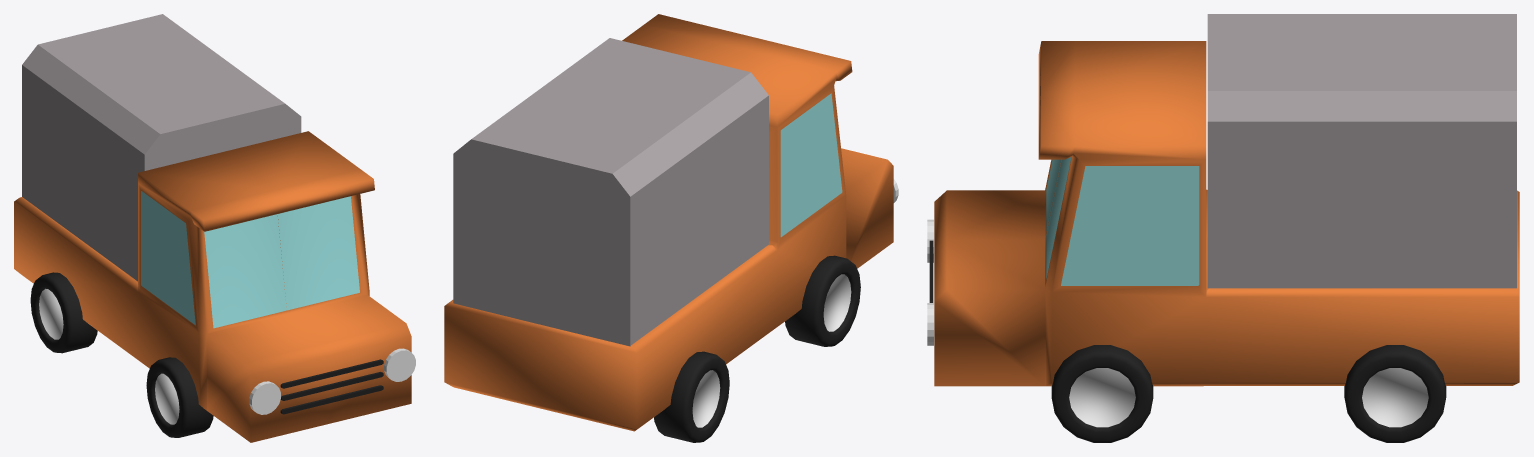
Rendered from Truck_2.fbx.
The picture shows the model from 3 angles, left to right: view 1: azimuth 30°, elevation 25°; view 2: azimuth 150°, elevation 25°; view 3: azimuth 270°, elevation 25°; orthographic projection. The views are drawn at different scales.
Visible parts, largest first — view 1: Cube.027; view 2: Cube.027; view 3: Cube.027.
Boxes of the visible parts, x1,y1,x2,y2 form: Cube.027: (14,14,415,442); Cube.027: (444,14,898,442); Cube.027: (927,14,1519,442).
Size of the model in its own units: 273 by 344 by 558.
